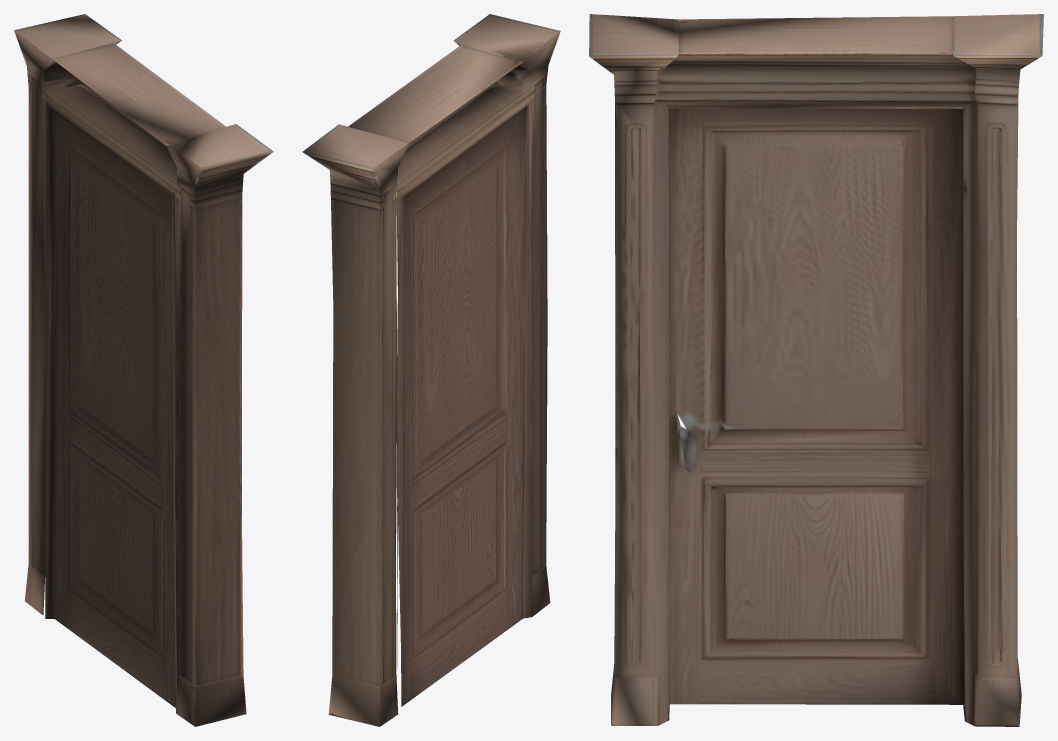
The model's file is TripoModel.glb.
3 views of the same model, side by side, from view 1: azimuth 30°, elevation 25°; view 2: azimuth 150°, elevation 25°; view 3: azimuth 270°, elevation 25° (orthographic). The views are drawn at different scales.
Parts seen in each view (by area): view 1: tripo_node_027609ed-4703-456c-a323-95107871d3fc; view 2: tripo_node_027609ed-4703-456c-a323-95107871d3fc; view 3: tripo_node_027609ed-4703-456c-a323-95107871d3fc.
Boxes of the visible parts, <box> form: tripo_node_027609ed-4703-456c-a323-95107871d3fc: <box>14,14,273,726</box>; tripo_node_027609ed-4703-456c-a323-95107871d3fc: <box>302,14,560,726</box>; tripo_node_027609ed-4703-456c-a323-95107871d3fc: <box>589,14,1043,726</box>.
Bounding box in the file's own units: 0.1313 × 0.9993 × 0.6037.
Materials: 1 (1 with a texture image).
